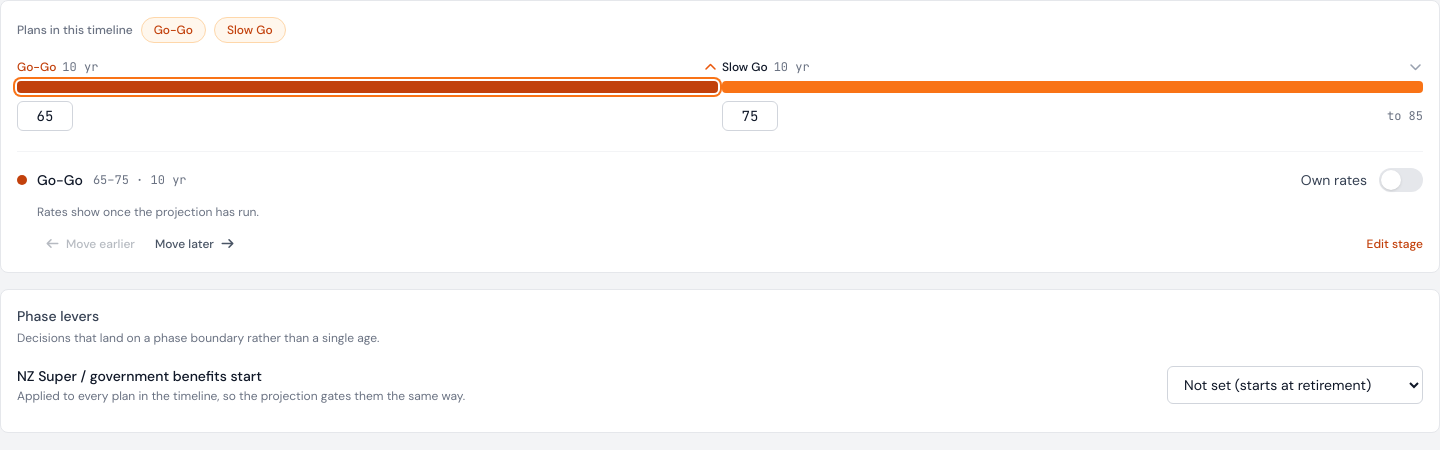
Test: PhasesTab › moves the open stage later and follows it
What coordinates should you click on to do the following:
click the button with aria-label "Move Go-Go later"
I would click on:
 (195, 244)
Its box is x1=147 y1=232 x2=243 y2=256.
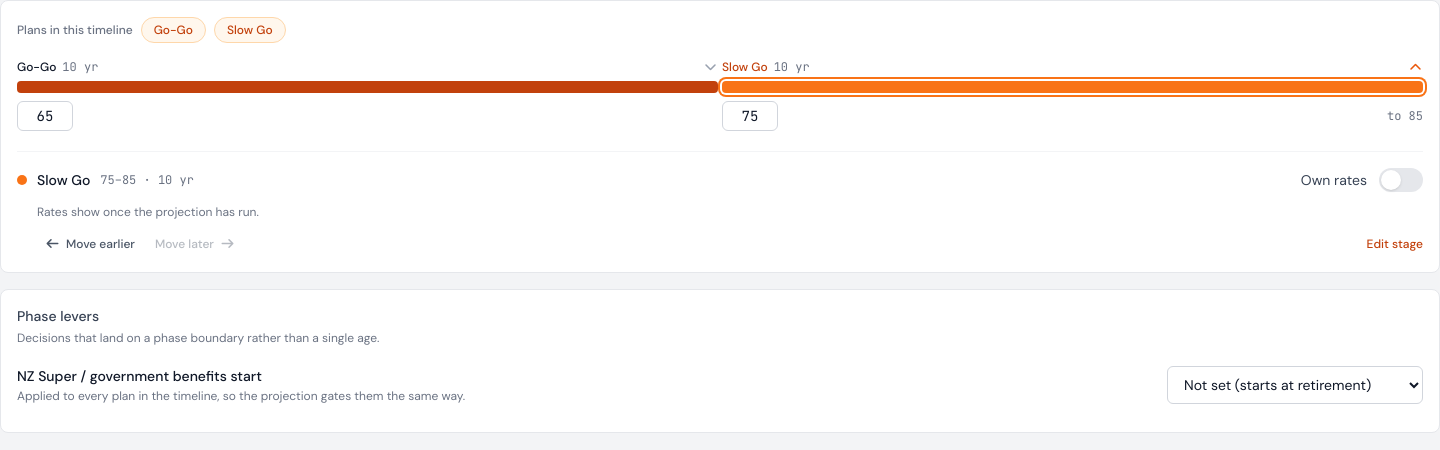
Check: the element named "Slow Go stage" is shown, box x1=17 y1=151 x2=1423 y2=256
